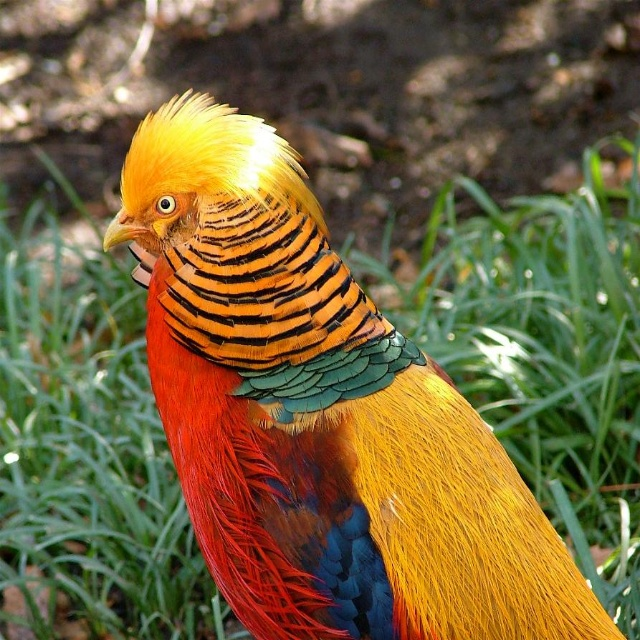Parrot: (101, 83, 626, 637)
